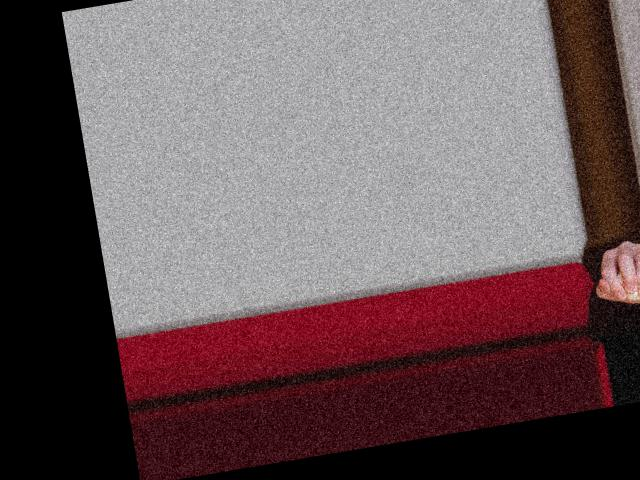egg: (612, 264, 640, 303)
